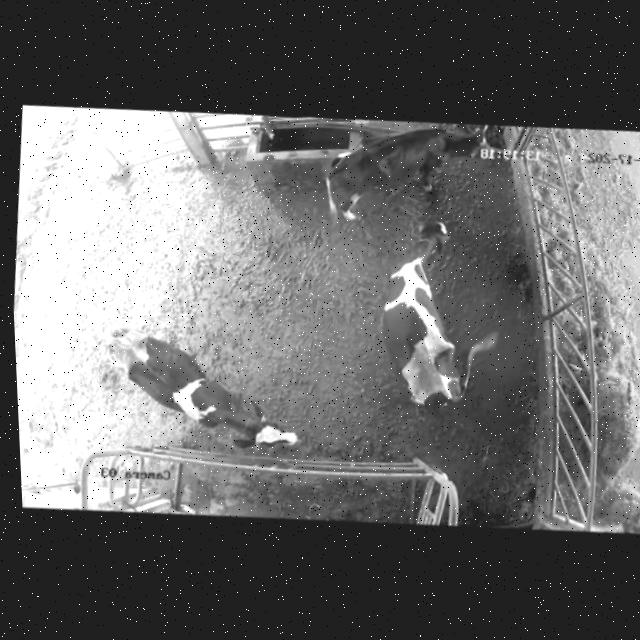lay: (347, 209, 513, 431)
stand: (84, 297, 325, 471), (301, 108, 523, 232)
